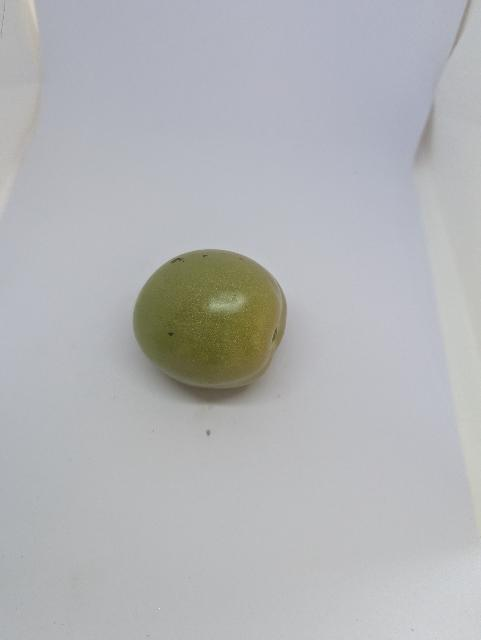green: (124, 232, 297, 406)
